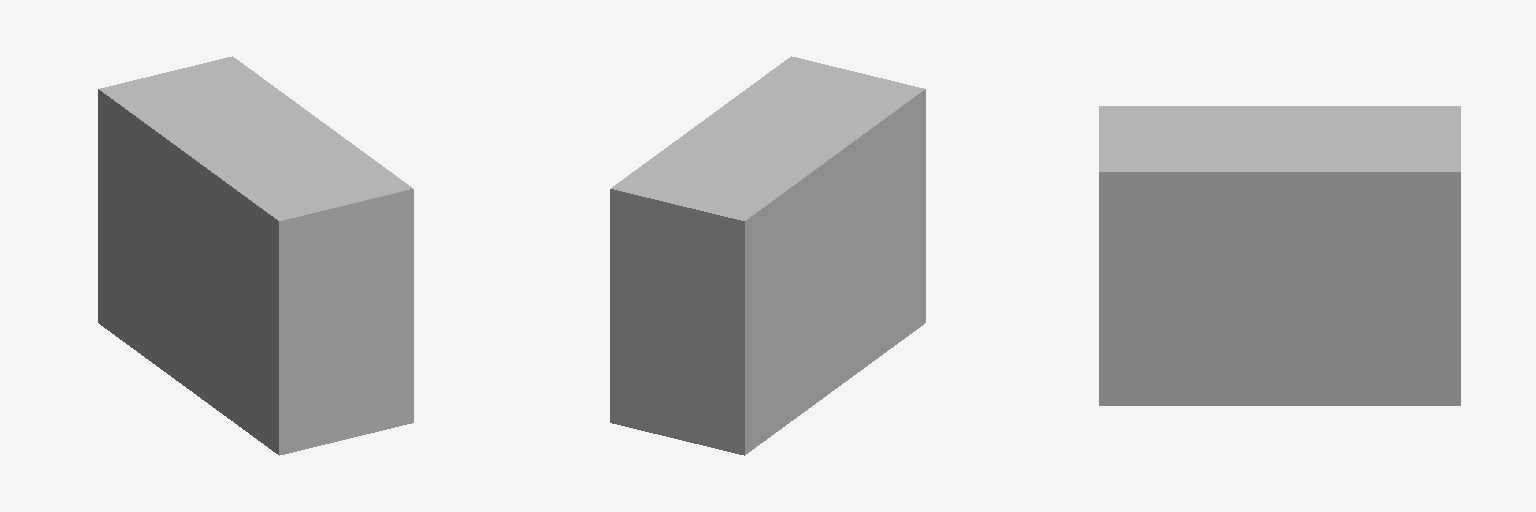
Rendered from Menu Scene 03-26.obj.
3 views of the same model, side by side, from view 1: azimuth 30°, elevation 25°; view 2: azimuth 150°, elevation 25°; view 3: azimuth 270°, elevation 25° (orthographic).
Visible parts, largest first — view 1: Menu Scene 03-26; view 2: Menu Scene 03-26; view 3: Menu Scene 03-26.
Boxes of the visible parts, box(x1,y1,x2,y2) form: Menu Scene 03-26: box(98, 56, 413, 455); Menu Scene 03-26: box(610, 56, 925, 455); Menu Scene 03-26: box(1099, 106, 1460, 405).
Size of the model in its own units: 6 by 10 by 14.